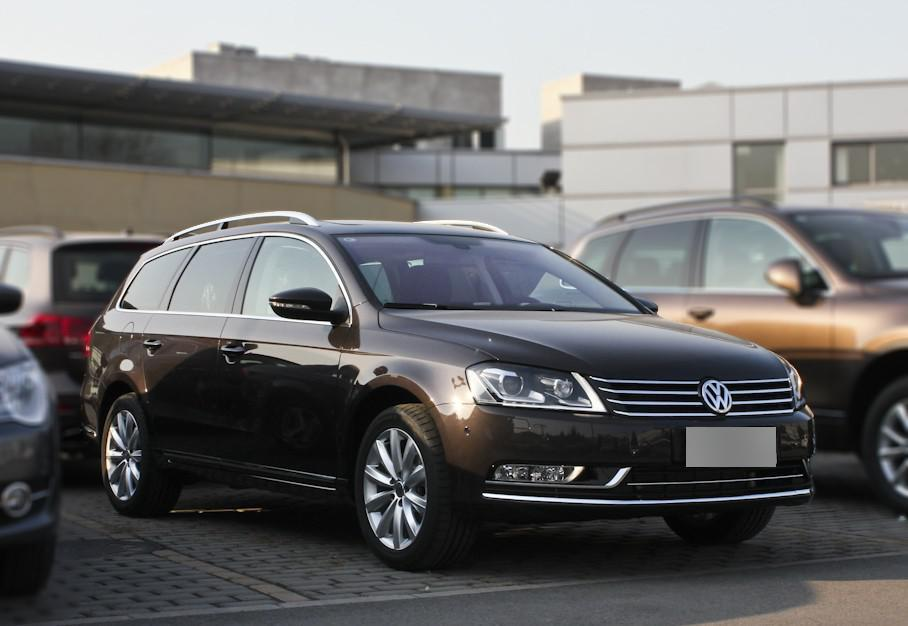Wagon: (80, 209, 816, 572)
